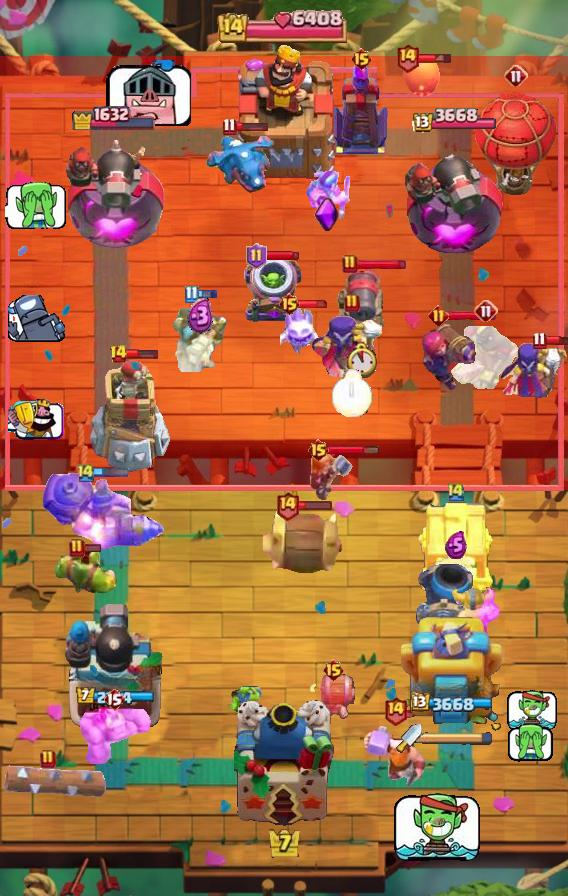axe: (310, 315, 394, 377), (498, 343, 568, 403)
bar: (401, 611, 505, 731)
bomb: (416, 499, 496, 593)
cannon-cart: (473, 90, 559, 198)
clock: (217, 9, 351, 43)
electro-spirit: (187, 298, 214, 335), (445, 531, 467, 559)
elixir: (331, 369, 372, 417), (344, 342, 380, 379)
emote: (446, 310, 498, 323), (356, 258, 407, 271), (327, 444, 380, 455), (234, 120, 270, 132), (264, 250, 300, 262), (419, 52, 454, 64), (125, 348, 159, 360), (94, 467, 130, 478), (297, 500, 333, 511), (298, 299, 330, 309), (196, 288, 218, 300), (544, 334, 568, 345), (83, 543, 102, 553)
flying-machine: (52, 546, 120, 602)
freeze: (448, 326, 524, 392)
giant-snowball: (305, 170, 353, 222)
goblin-cage: (241, 255, 305, 325)
goblin-giant: (448, 585, 500, 651)
graveyard: (206, 131, 276, 195)
hog: (402, 54, 442, 98)
hog-rider: (308, 452, 354, 502)
ice-spirit-evolution-symbol: (330, 60, 392, 156)
inferno-dragon: (171, 296, 229, 372)
king-tower: (230, 43, 338, 181), (234, 700, 334, 826)
king-tower-bar: (422, 731, 494, 745)
knight: (308, 671, 358, 727)
mega-minion: (420, 315, 478, 393)
mighty-miner: (363, 724, 427, 788)
minion: (0, 765, 107, 801)
mirror: (280, 301, 324, 355)
musketeer: (414, 563, 474, 627)
royal-giant-evolution: (332, 267, 390, 337)
selected: (71, 102, 157, 129), (410, 109, 496, 136), (411, 693, 495, 714), (74, 687, 154, 707)
skeleton: (391, 792, 481, 864), (104, 60, 191, 126), (5, 180, 67, 230), (7, 295, 64, 345), (7, 399, 64, 441), (507, 690, 558, 731), (507, 724, 555, 762)
skeleton-king-skill: (314, 196, 340, 232)
text: (396, 42, 421, 73), (275, 490, 300, 521), (383, 695, 408, 726), (504, 64, 528, 88), (474, 299, 498, 323), (351, 47, 374, 71), (278, 292, 301, 316), (306, 438, 329, 462), (322, 658, 345, 682), (245, 243, 266, 269), (103, 687, 125, 711), (428, 306, 449, 327), (446, 481, 466, 503), (76, 462, 96, 483), (108, 344, 127, 364), (342, 254, 358, 274), (344, 293, 360, 313), (69, 538, 85, 558), (40, 749, 56, 769), (532, 330, 547, 349), (223, 117, 238, 135), (185, 285, 199, 303)
the-log: (260, 509, 350, 577)
tower-bar: (60, 132, 167, 256), (64, 601, 164, 731), (403, 138, 503, 256)
valkyrie-evolution: (76, 706, 151, 766)
wizard: (41, 472, 165, 550)
zap: (227, 681, 263, 721)
zappy: (87, 358, 172, 474)
